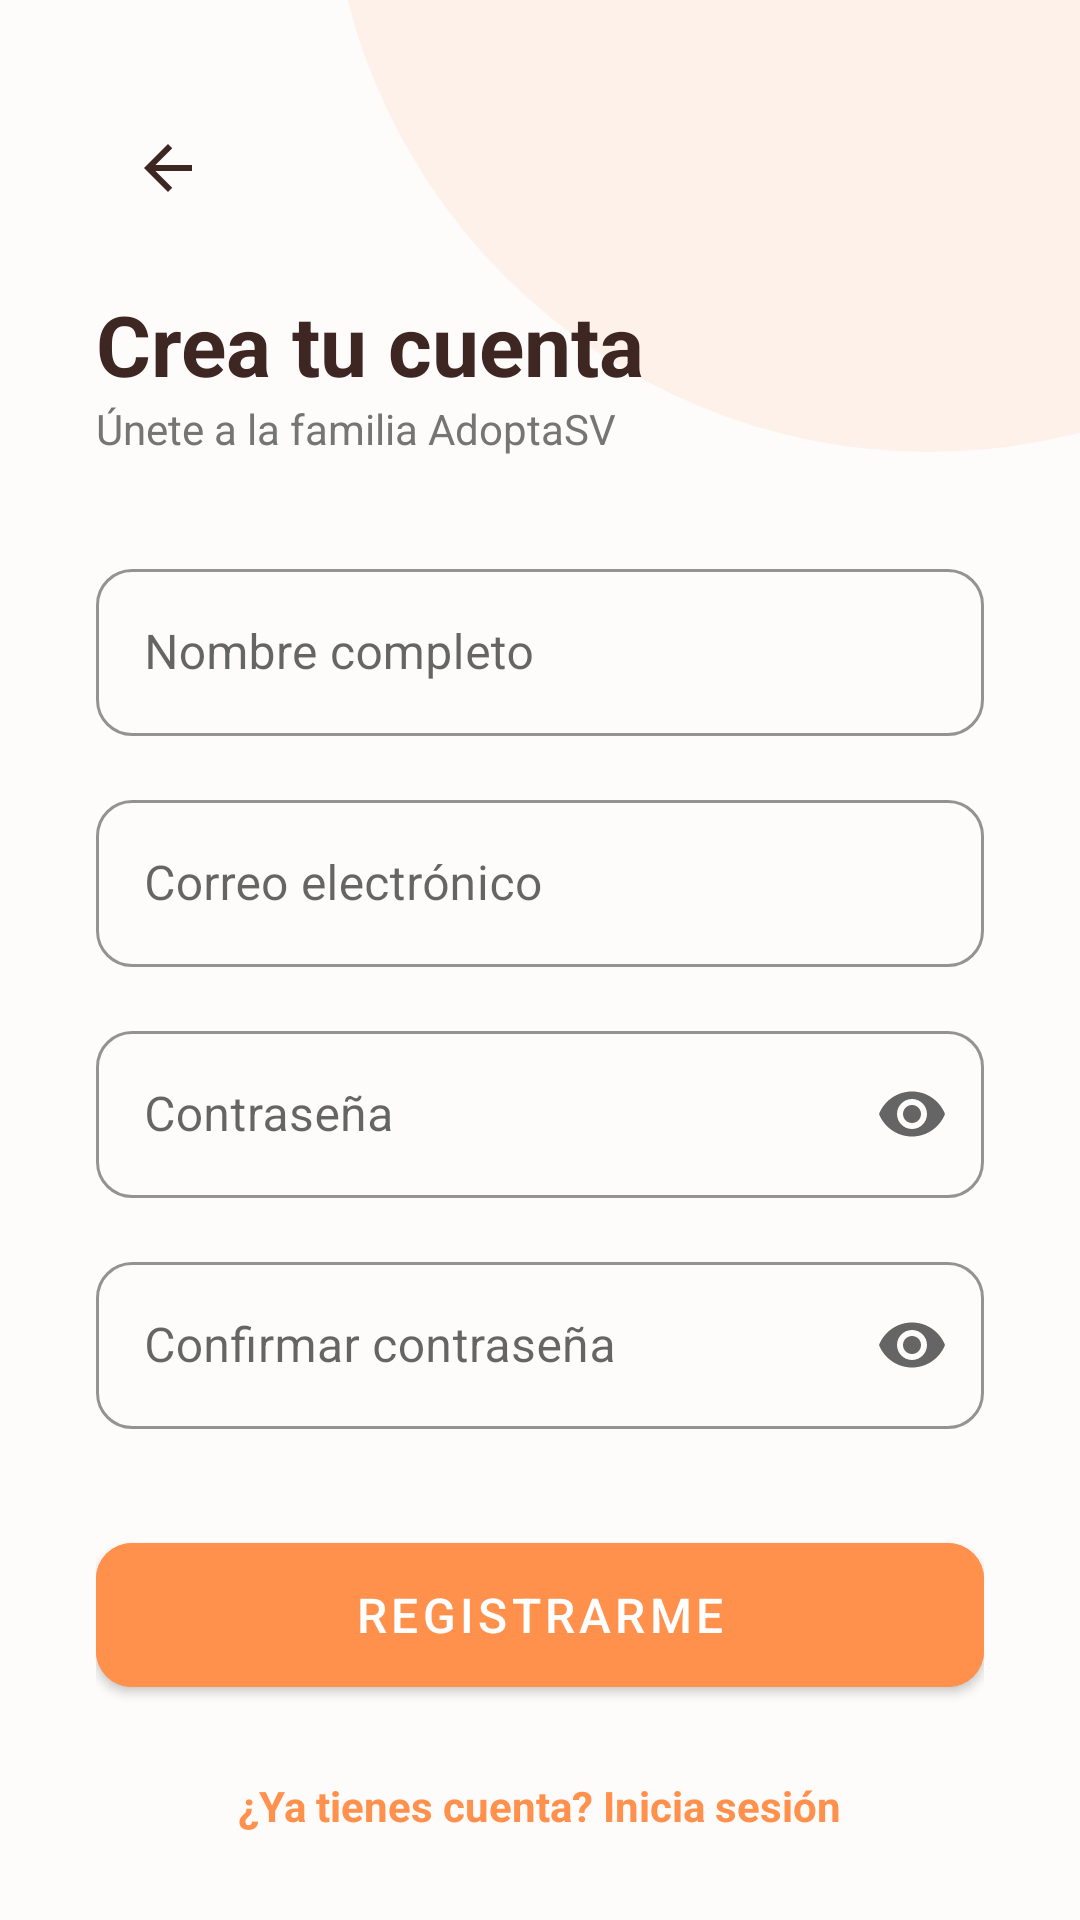

Named icons in this screenshot (1080px×1920px) and their bounding boxes, (x1, y1, x2, y2):
Volver: (144, 144, 192, 192)
